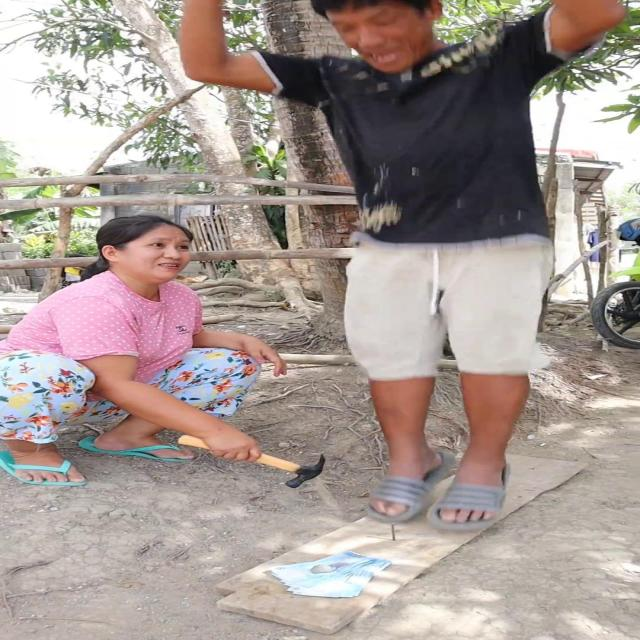hammer: (175, 433, 332, 492)
